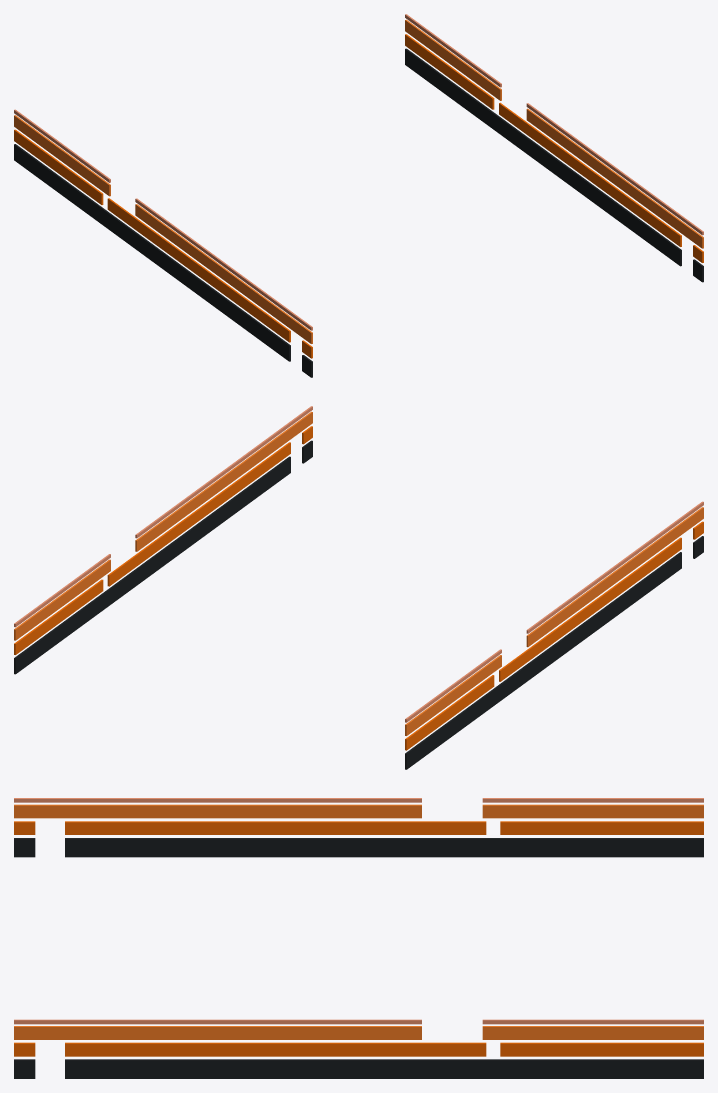
The model's file is stripe_toy4.glb.
The picture shows the model from 3 angles, top to bottom: view 1: azimuth 30°, elevation 25°; view 2: azimuth 150°, elevation 25°; view 3: azimuth 270°, elevation 25°; orthographic projection. The views are drawn at different scales.
Parts seen in each view (by area): view 1: b16_0, b-16_0, b-14_1, b14_1, b12_1, b-12_1, b-12_0.002, b12_0.002, b14_0, b-14_0, b-10_1, b10_1; view 2: b-16_0, b16_0, b14_1, b-14_1, b-12_1, b12_1, b12_0.002, b-12_0.002, b-14_0, b14_0, b-10_1, b10_1; view 3: b-16_0, b16_0, b14_1, b-12_1, b-14_1, b12_1, b-12_0.002, b12_0.002, b14_0, b-14_0, b10_1, b-10_1 (+2 smaller).
Boxes of the visible parts, x1,y1,x2,y2 form: b16_0: [405, 48, 681, 266]; b-16_0: [14, 144, 290, 361]; b-14_1: [107, 198, 290, 342]; b14_1: [499, 102, 681, 246]; b12_1: [526, 108, 703, 248]; b-12_1: [135, 204, 312, 343]; b-12_0.002: [14, 115, 110, 196]; b12_0.002: [405, 19, 501, 100]; b14_0: [405, 34, 494, 109]; b-14_0: [14, 129, 103, 204]; b-10_1: [135, 198, 312, 330]; b10_1: [526, 103, 703, 235]; b-16_0: [405, 552, 681, 769]; b16_0: [14, 456, 290, 674]; b14_1: [107, 442, 290, 586]; b-14_1: [499, 537, 681, 681]; b-12_1: [526, 507, 703, 647]; b12_1: [135, 411, 312, 551]; b12_0.002: [14, 559, 110, 640]; b-12_0.002: [405, 655, 501, 735]; b-14_0: [405, 675, 494, 750]; b14_0: [14, 579, 103, 654]; b-10_1: [526, 501, 703, 633]; b10_1: [135, 406, 312, 538]; b-16_0: [65, 838, 703, 857]; b16_0: [65, 1059, 703, 1078]; b14_1: [65, 1042, 486, 1056]; b-12_1: [14, 804, 421, 818]; b-14_1: [65, 821, 486, 834]; b12_1: [14, 1026, 421, 1039]; b-12_0.002: [482, 804, 703, 818]; b12_0.002: [482, 1026, 703, 1039]; b14_0: [500, 1042, 703, 1056]; b-14_0: [500, 821, 703, 834]; b10_1: [14, 1019, 421, 1024]; b-10_1: [14, 798, 421, 802].
Bounding box in the file's own units: 1.43 × 0.1748 × 1.87.
